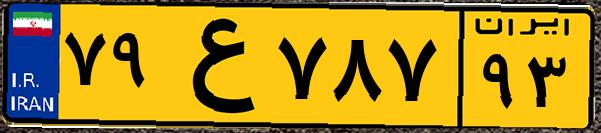3: (525, 38, 570, 115)
7: (270, 28, 330, 110), (385, 28, 445, 110), (57, 26, 110, 100)
8: (330, 28, 385, 110)
9: (475, 38, 525, 113), (110, 28, 158, 98)
ع: (158, 12, 270, 120)
